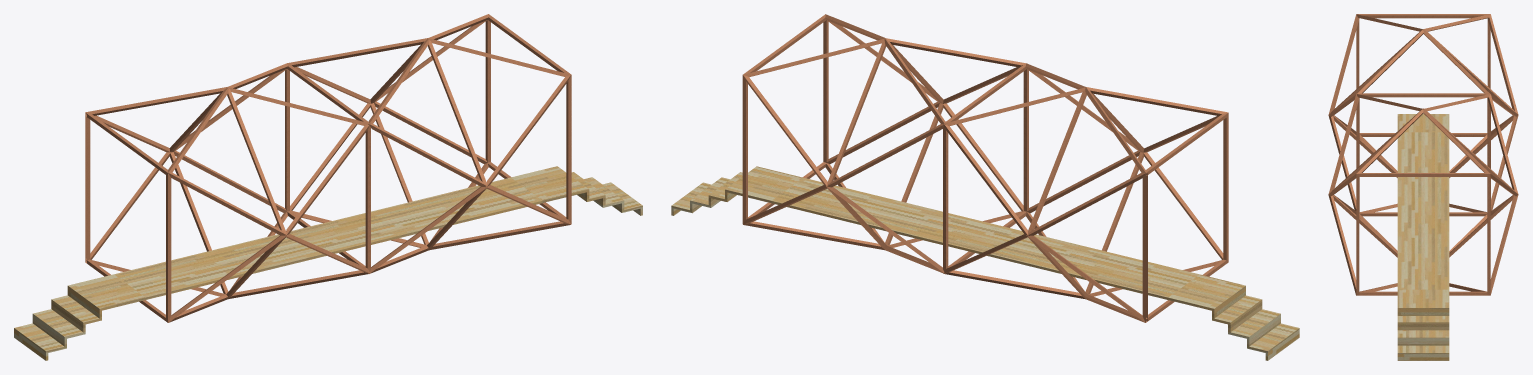
The model's file is ponte.glb.
3 renders of one model, left to right at view 1: azimuth 30°, elevation 25°; view 2: azimuth 150°, elevation 25°; view 3: azimuth 270°, elevation 25°, orthographic. The views are drawn at different scales.
Parts seen in each view (by area): view 1: root; view 2: root; view 3: root.
Boxes of the visible parts, x1=… form: root: x1=14, y1=14, x2=642, y2=360; root: x1=671, y1=14, x2=1299, y2=360; root: x1=1328, y1=14, x2=1518, y2=360.
Bounding box in the file's own units: 12.8 × 4.39 × 4.35.
3 materials, 2 textured.
